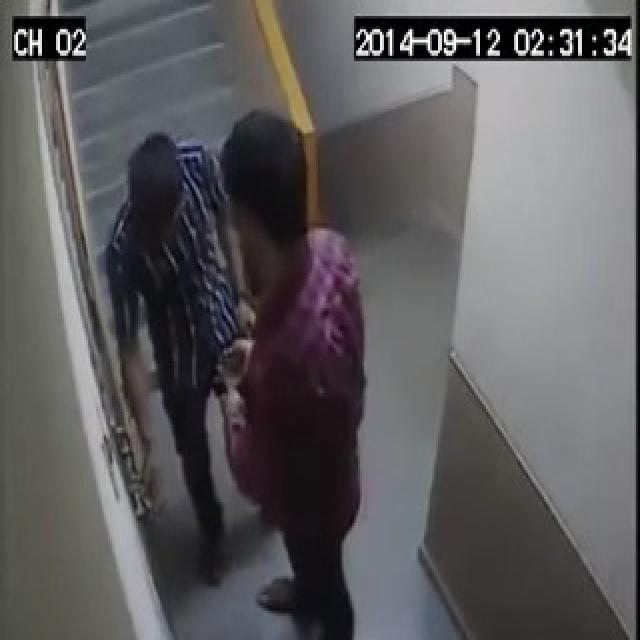thief: (98, 125, 388, 640)
